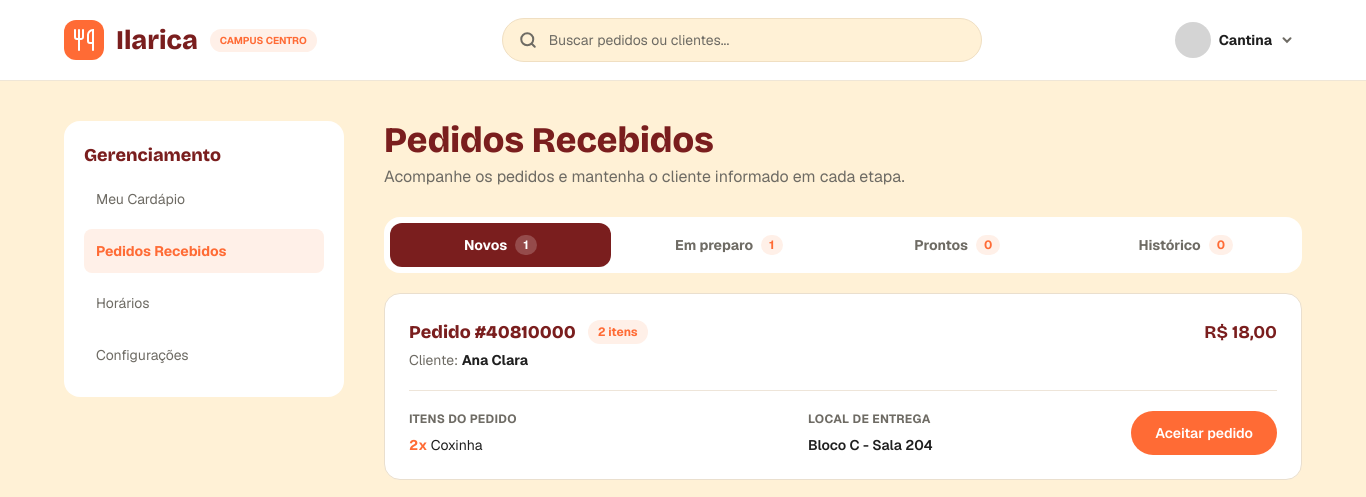
Test case: SellerOrdersPage › organizes server orders by operational stage
Check: the heading "Pedido #40810000" is shown, box x1=409 y1=318 x2=576 y2=346
Check: the text "Bloco C - Sala 204" is shown, box x1=808 y1=436 x2=933 y2=454
Click the tab "Em preparo 1" at {"x": 729, "y": 245}, box x1=618 y1=223 x2=839 y2=267
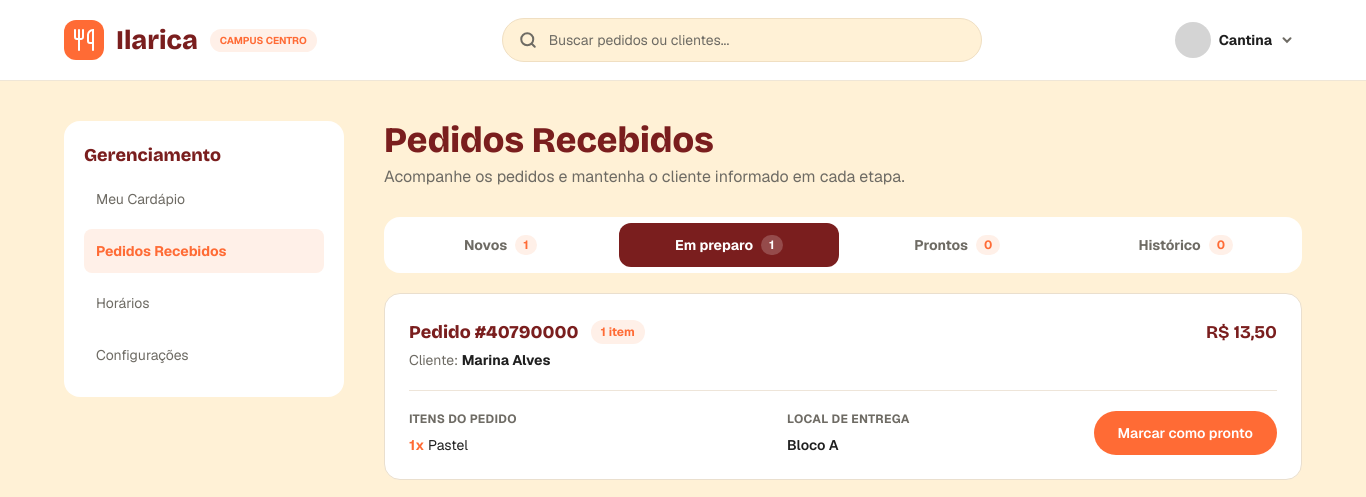
Check: the heading "Pedido #40790000" is shown, box x1=409 y1=318 x2=578 y2=346
Check: the heading "Pedido #40810000" is gone
